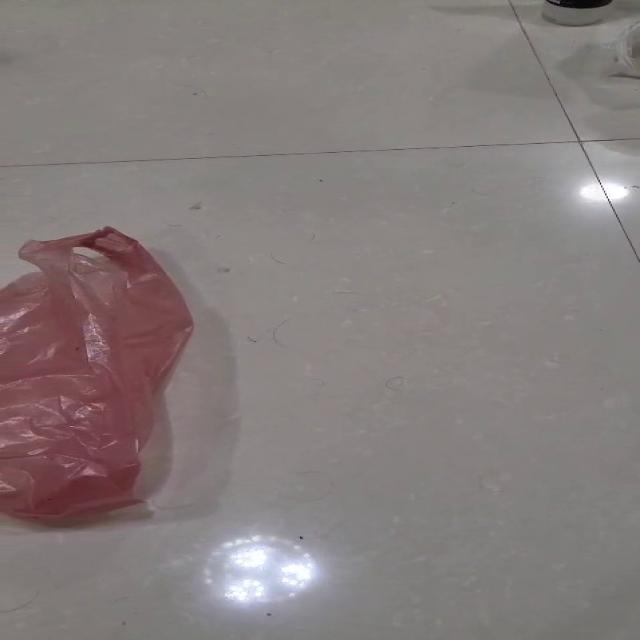plastic: (0, 225, 194, 522)
